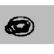correct: (3, 14, 36, 40)
